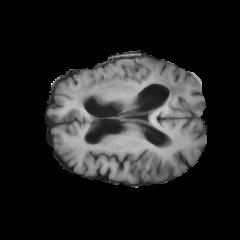glioma: (77, 57, 187, 105)
